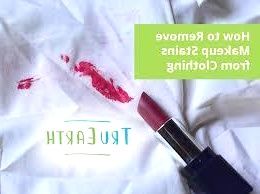lipstick: (72, 60, 109, 85), (91, 78, 124, 104), (16, 77, 42, 97), (101, 87, 133, 103), (58, 51, 73, 66)
